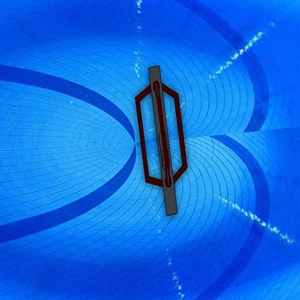submarine: (125, 59, 196, 219)
